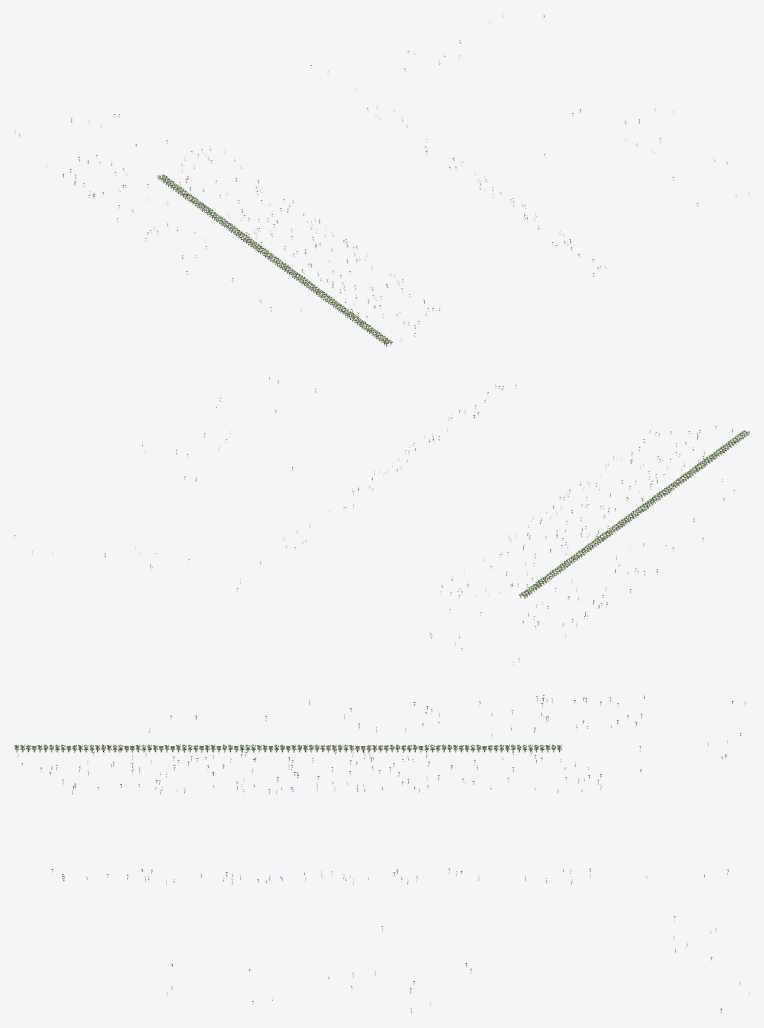
The picture shows the model from 3 angles, top to bottom: view 1: azimuth 30°, elevation 25°; view 2: azimuth 150°, elevation 25°; view 3: azimuth 270°, elevation 25°; orthographic projection. The views are drawn at different scales.
Parts seen in each view (by area): view 1: GROUND_FLORA_s_-3_0; view 2: GROUND_FLORA_s_-3_0; view 3: GROUND_FLORA_s_-3_0.
Part boxes in pixels (bbox=[...]): GROUND_FLORA_s_-3_0: bbox=[15, 14, 749, 346]; GROUND_FLORA_s_-3_0: bbox=[14, 375, 749, 662]; GROUND_FLORA_s_-3_0: bbox=[14, 695, 749, 1012].
Size of the model in its own units: 127 by 1.91 by 128.
